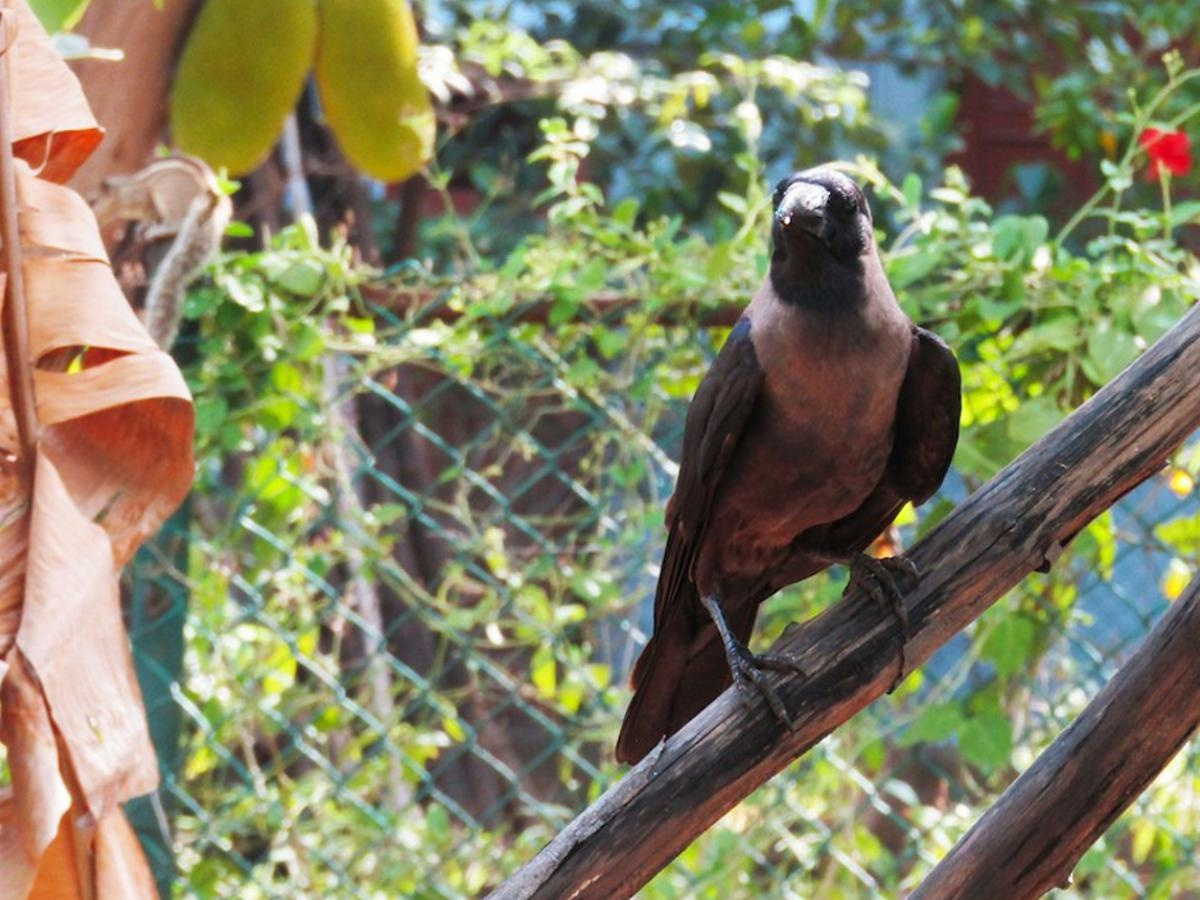crow: (606, 154, 1008, 765)
